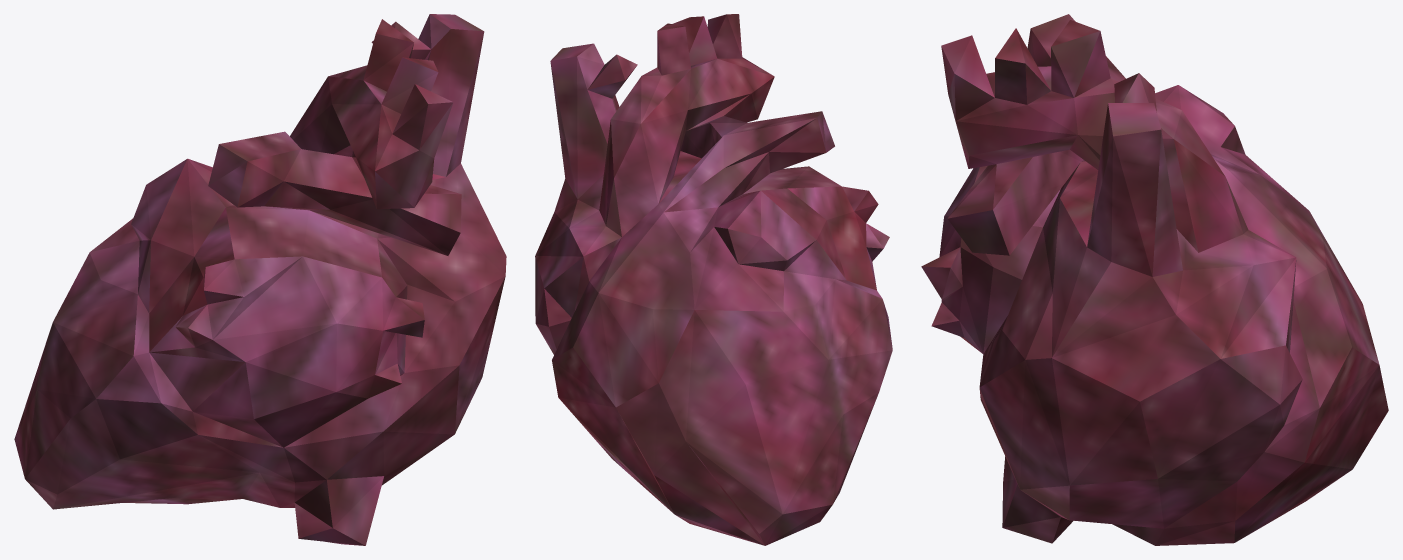
File: TCA_Heart.fbx
3 views of the same model, side by side, from view 1: azimuth 30°, elevation 25°; view 2: azimuth 150°, elevation 25°; view 3: azimuth 270°, elevation 25° (orthographic). The views are drawn at different scales.
Visible parts, largest first — view 1: Heart; view 2: Heart; view 3: Heart.
Boxes of the visible parts, bbox=[...] form: Heart: bbox=[14, 14, 506, 545]; Heart: bbox=[535, 14, 892, 545]; Heart: bbox=[921, 14, 1388, 545].
Bounding box in the file's own units: 0.1636 × 0.1938 × 0.1499.
